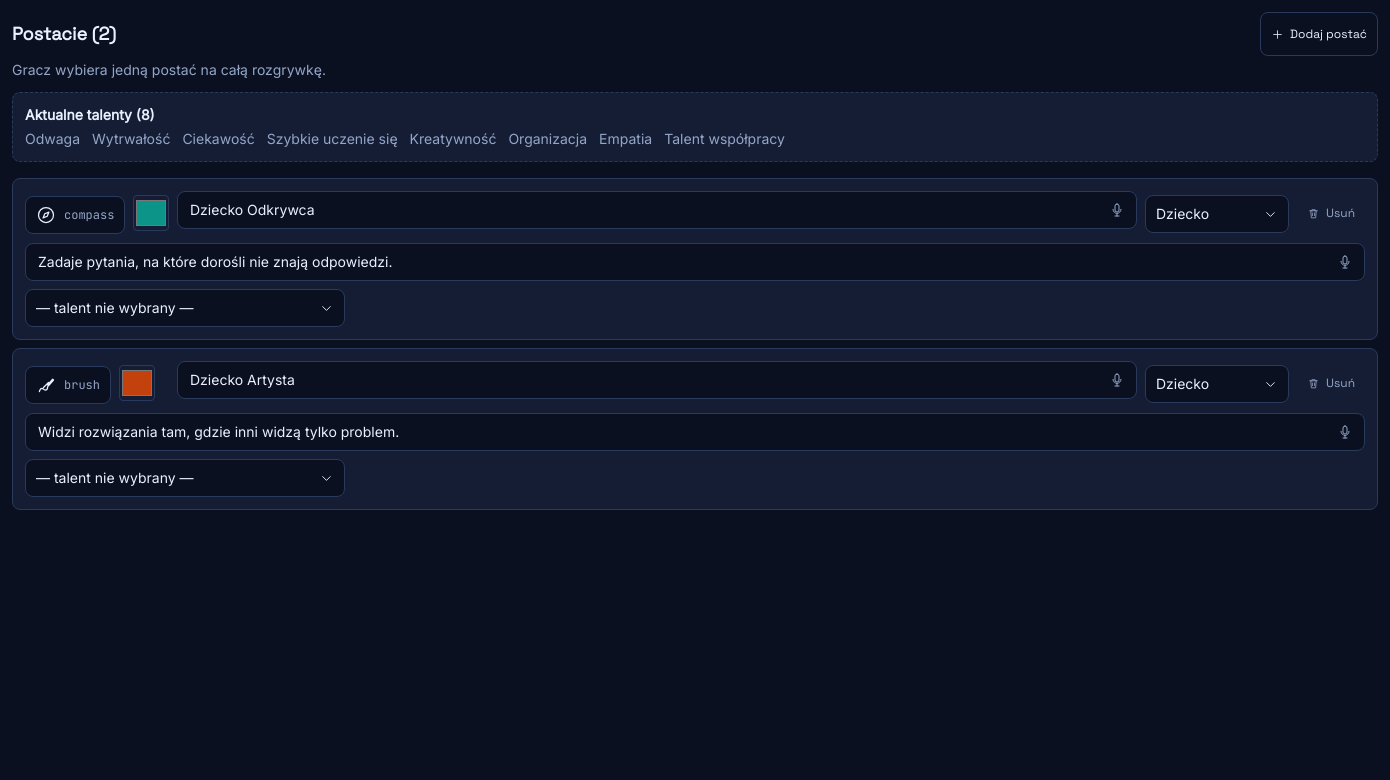
CharacterEditor › blokuje usunięcie, gdy zostałaby mniej niż jedna para postaci
Click the 1st button "Usuń".
click(1331, 213)  # box [1297,191,1365,235]
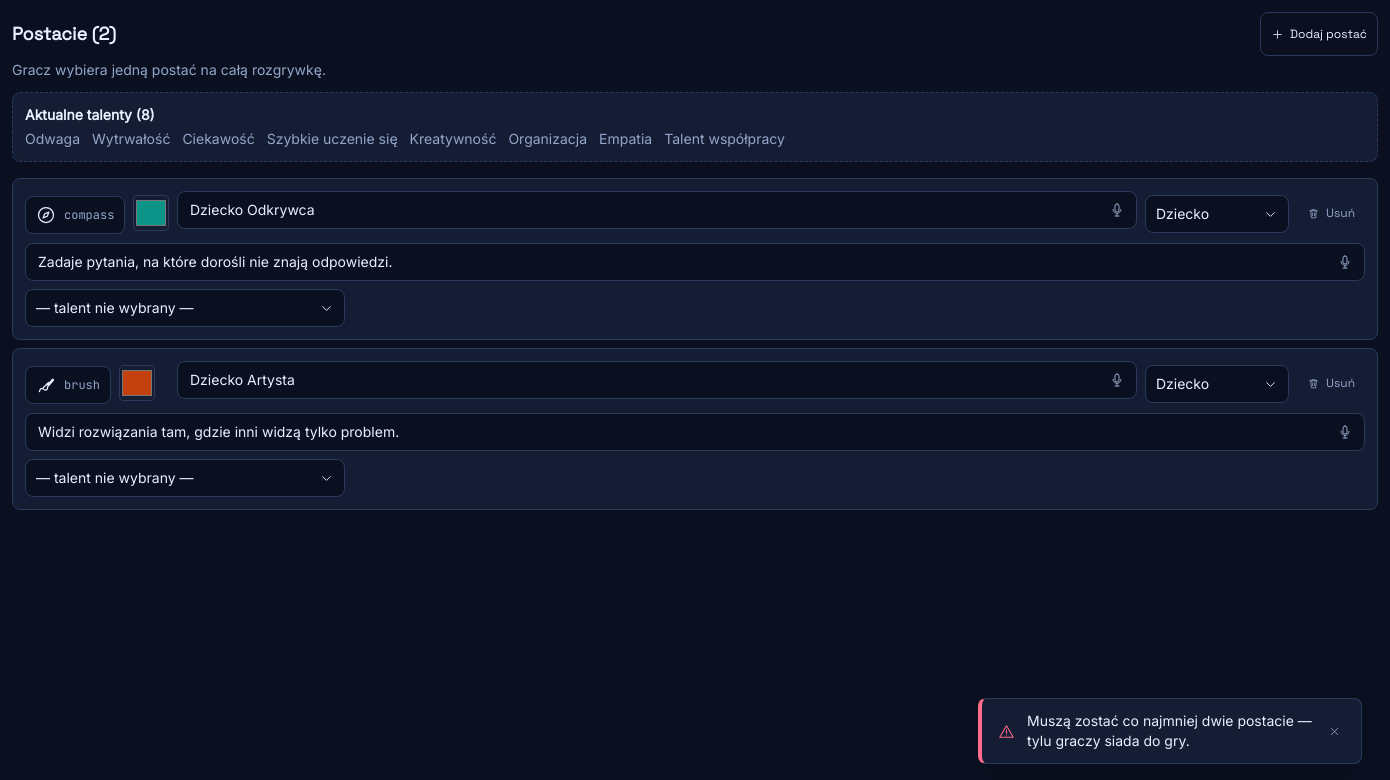
Check: the text "co najmniej dwie postacie" is shown, box [1027,712,1312,749]
